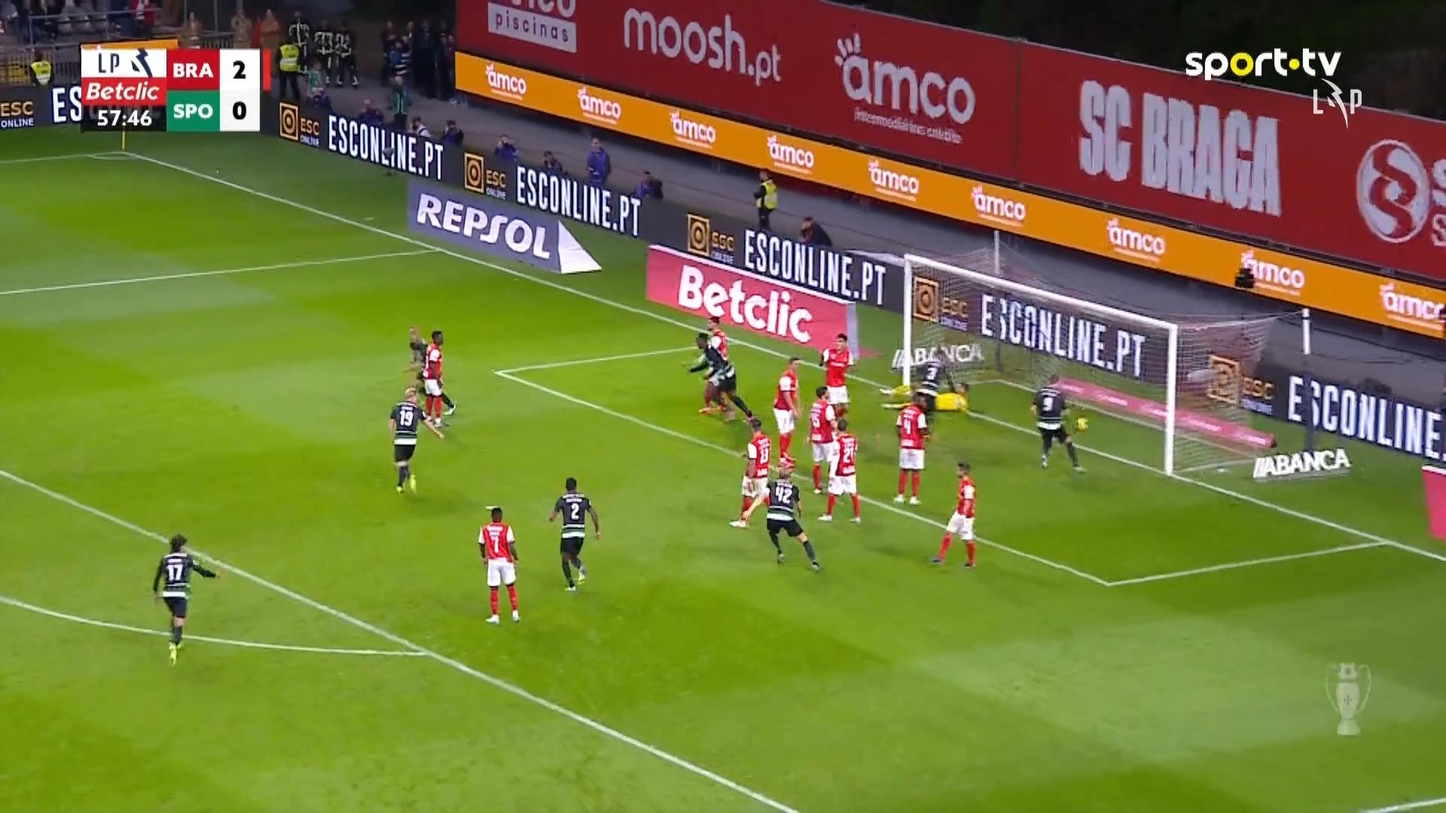ball: (1075, 416, 1088, 431)
goalkeeper: (879, 383, 975, 416)
player: (737, 456, 821, 571), (151, 532, 219, 665), (386, 385, 444, 494), (548, 477, 601, 592), (1030, 372, 1087, 472), (929, 461, 978, 568), (477, 505, 521, 624), (816, 416, 862, 522), (728, 416, 771, 528), (892, 390, 932, 504), (412, 328, 456, 429), (407, 326, 454, 415), (805, 385, 838, 495), (817, 332, 855, 421), (771, 355, 802, 464), (700, 315, 732, 413), (914, 346, 950, 420)
referee: (686, 332, 752, 422)
